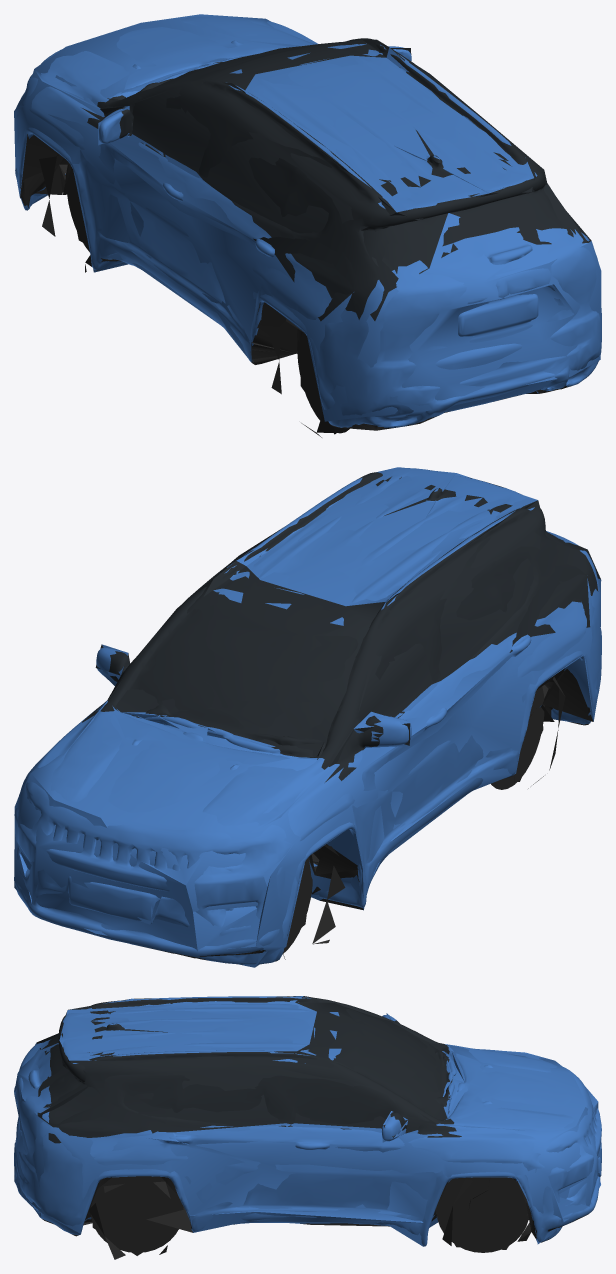
File: jeep-compass.glb
3 renders of one model, top to bottom at view 1: azimuth 30°, elevation 25°; view 2: azimuth 150°, elevation 25°; view 3: azimuth 270°, elevation 25°, orthographic. The views are drawn at different scales.
Parts seen in each view (by area): view 1: body, far; view 2: body, far; view 3: body, far.
Part boxes in pixels (bbox=[...]): body: bbox=[15, 16, 601, 437]; far: bbox=[14, 14, 601, 434]; body: bbox=[14, 468, 601, 964]; far: bbox=[14, 467, 601, 967]; body: bbox=[14, 996, 601, 1259]; far: bbox=[14, 996, 601, 1257].
Bounding box in the file's own units: 2.06 × 1.68 × 4.49.
